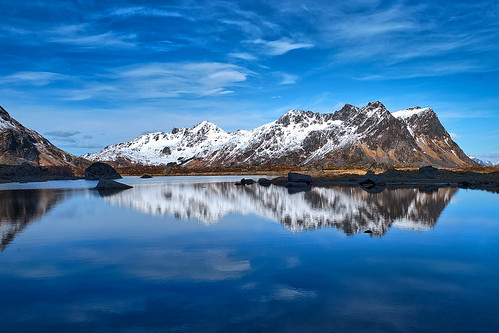mountain: (98, 80, 468, 171)
river: (1, 177, 490, 333)
sky: (16, 1, 499, 128)
